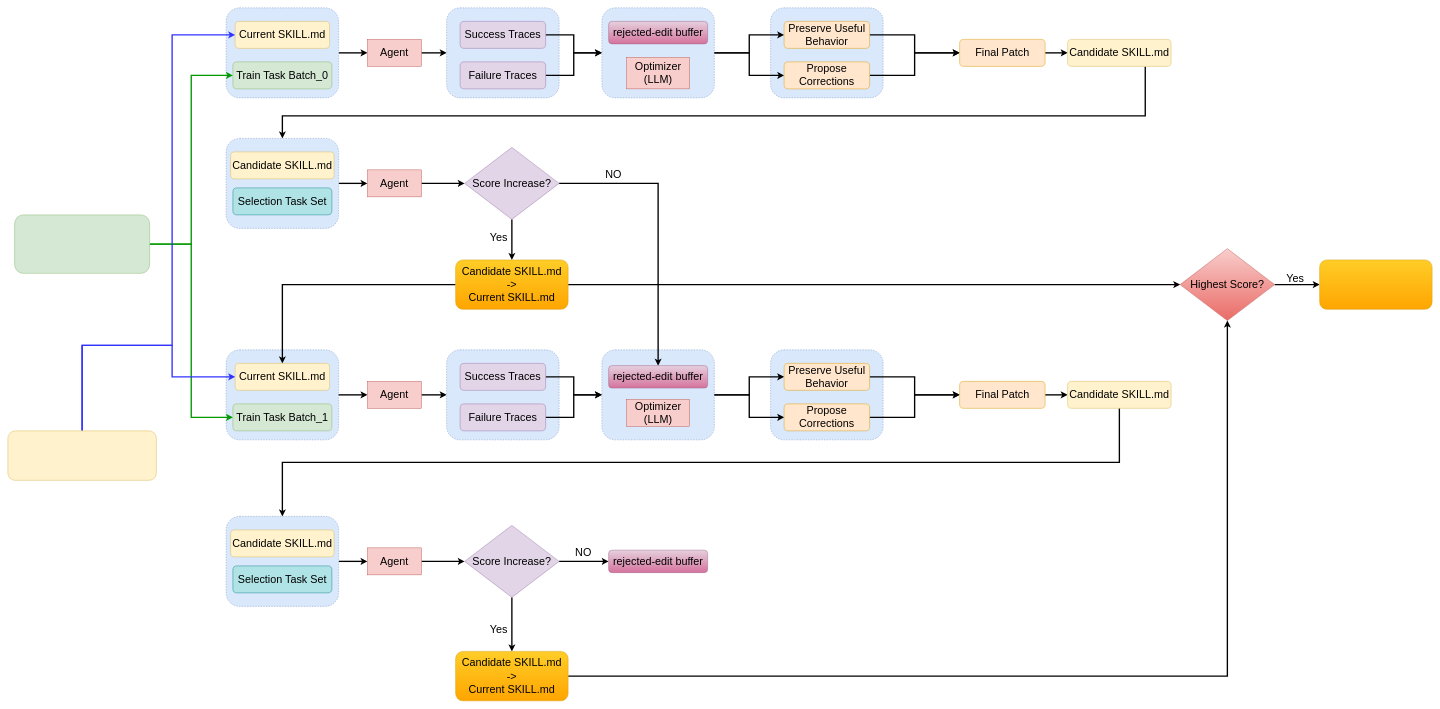
The diagram is 1440 pixels wide and 709 high, and some of its shapes have lost their labels. Each missing label, with the centre of its shape:
"Current SKILL.md -> Best SKILL.md" belongs at pixel 1375 284.
"Original SKILL.md" belongs at pixel 81 455.
"Train Task Set e.g. Two Batches" belongs at pixel 82 243.
